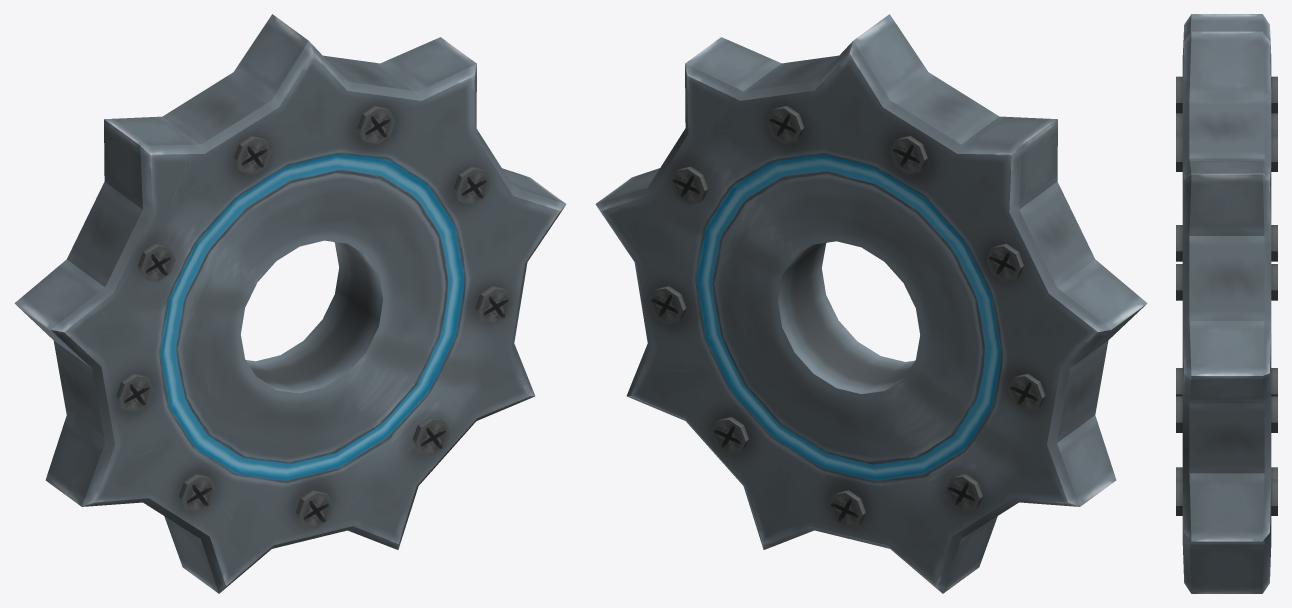
File: Elude_Cog_Collectable_Mesh.fbx
3 renders of one model, left to right at view 1: azimuth 30°, elevation 25°; view 2: azimuth 150°, elevation 25°; view 3: azimuth 270°, elevation 25°, orthographic. The views are drawn at different scales.
Parts seen in each view (by area): view 1: cog_collectable; view 2: cog_collectable; view 3: cog_collectable.
Boxes of the visible parts, x1,y1,x2,y2 form: cog_collectable: [14, 14, 566, 593]; cog_collectable: [595, 14, 1147, 593]; cog_collectable: [1176, 14, 1277, 593].
Size of the model in its own units: 74.92 by 73.76 by 13.09.
